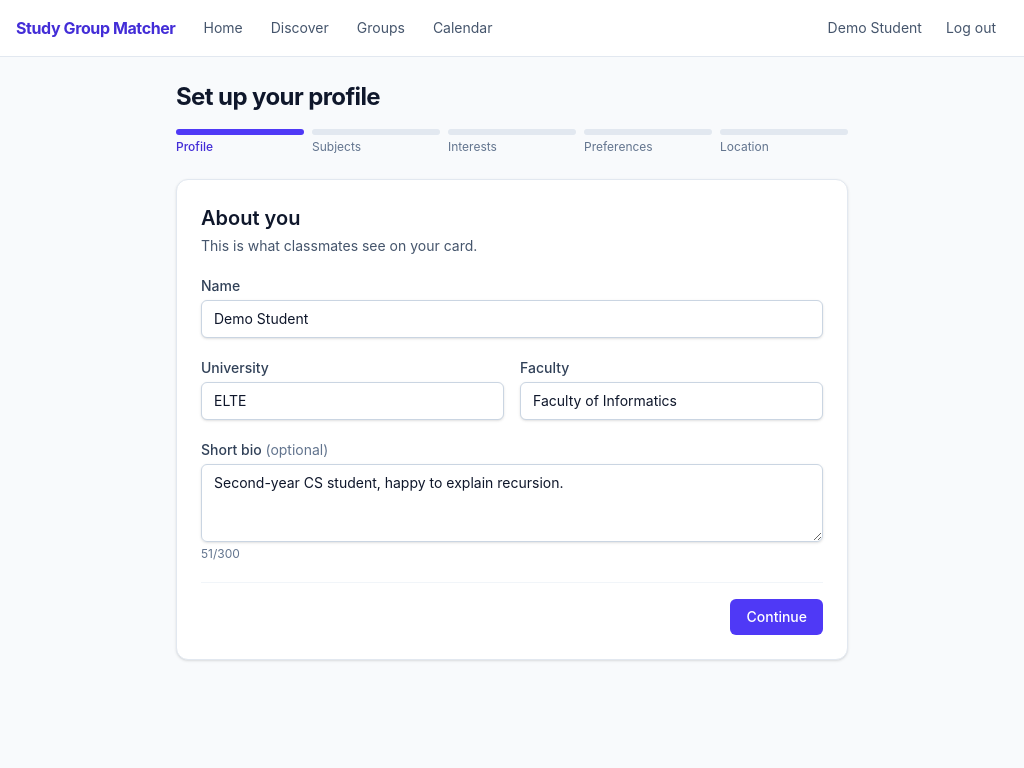
Scenario: Onboarding: profile step › validates the name and bio length
Clear the field labelled "Name": (512, 319) 201,300 -> 823,338
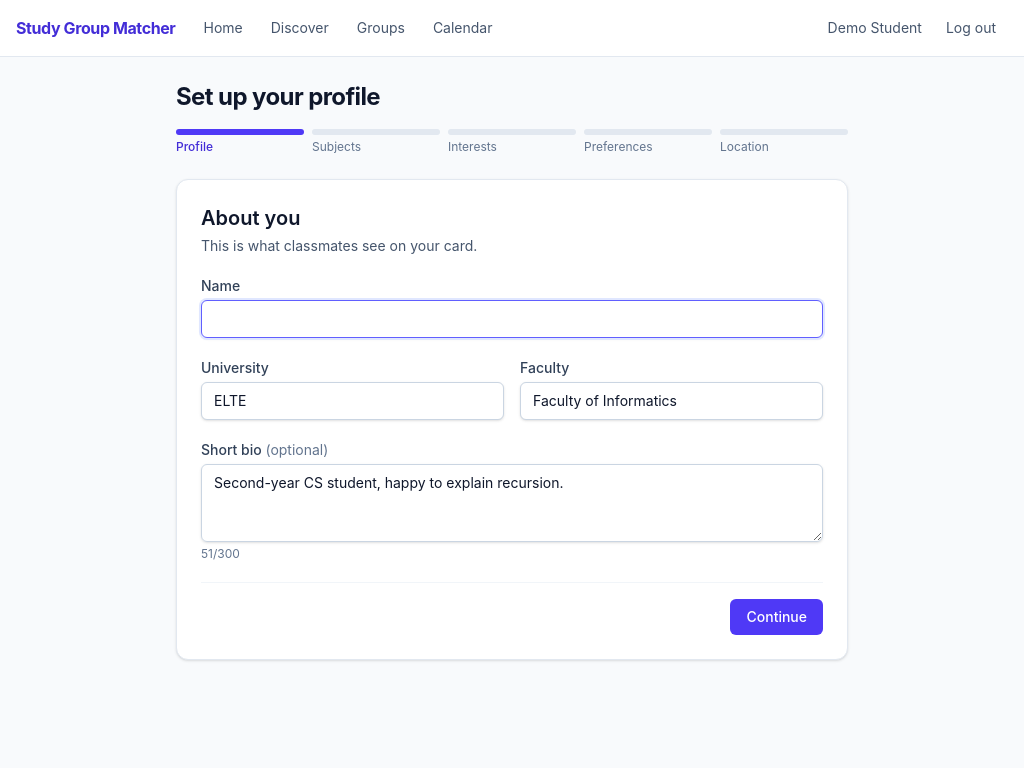
Click the button "Continue": (777, 617) 730,599 -> 823,635
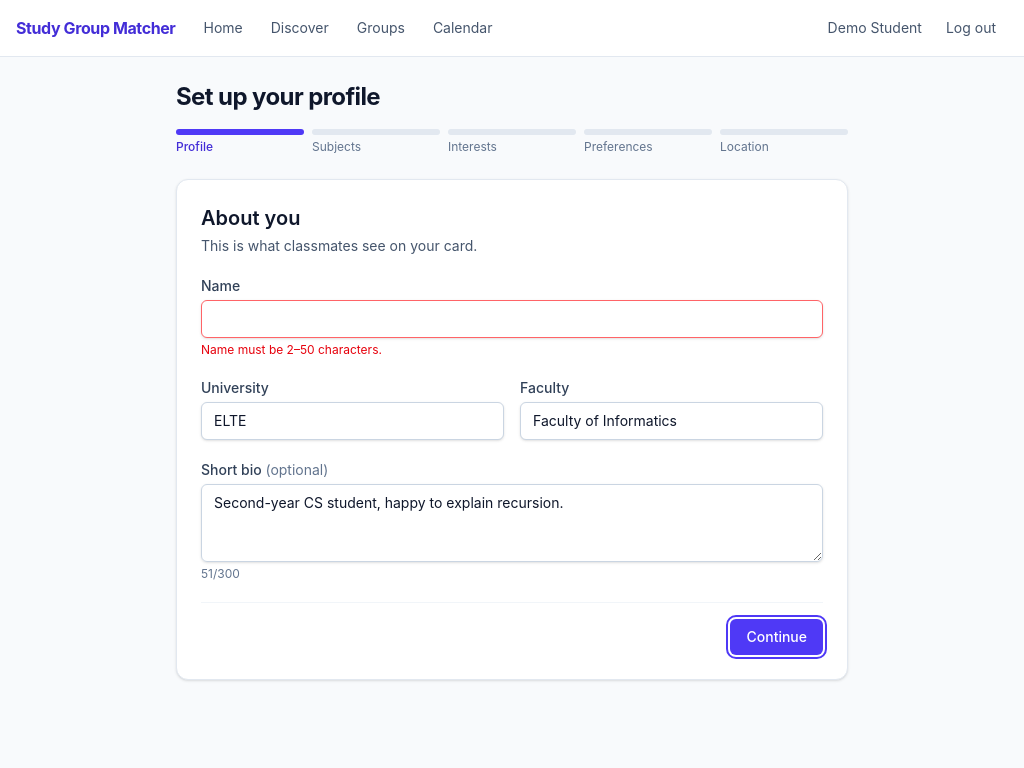
Check: the heading "About you" is shown, box 201,206 -> 300,230
Check: the text "Name must be 2–50 characters." is shown, box 201,342 -> 382,357
